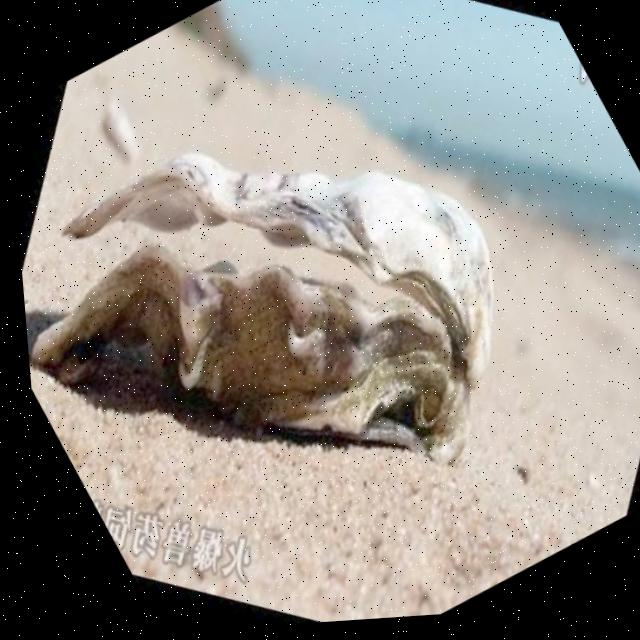Oyster-Open: (6, 35, 586, 617)
